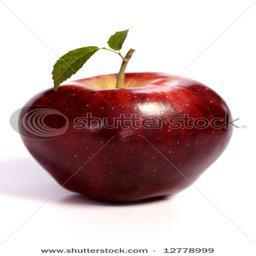apple: (13, 70, 233, 206)
